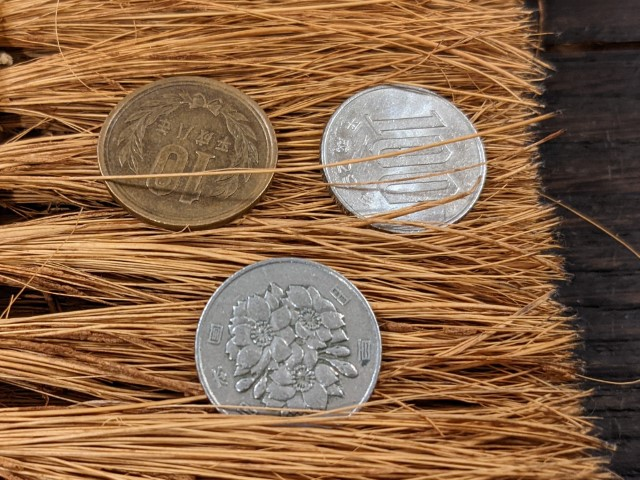100yen: (195, 258, 382, 429), (320, 84, 487, 235)
10yen: (97, 74, 278, 228)
